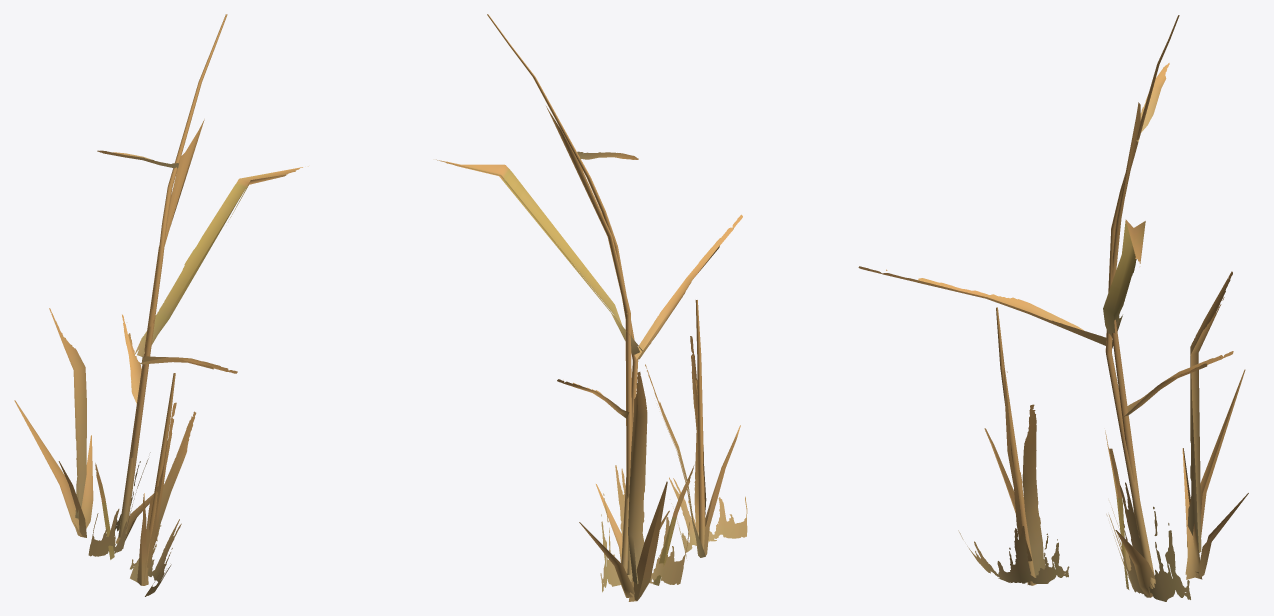
The picture shows the model from 3 angles, left to right: view 1: azimuth 30°, elevation 25°; view 2: azimuth 150°, elevation 25°; view 3: azimuth 270°, elevation 25°; orthographic projection. The views are drawn at different scales.
Visible parts, largest first — view 1: body0_model0_lod0_mesh0; view 2: body0_model0_lod0_mesh0; view 3: body0_model0_lod0_mesh0.
Part boxes in pixels (box(x1,y1,x2,y2)): body0_model0_lod0_mesh0: box(14, 14, 308, 596); body0_model0_lod0_mesh0: box(436, 14, 747, 601); body0_model0_lod0_mesh0: box(858, 15, 1248, 601).
Size of the model in its own units: 42.71 by 68.11 by 43.09.
Materials: 1 (1 with a texture image).
